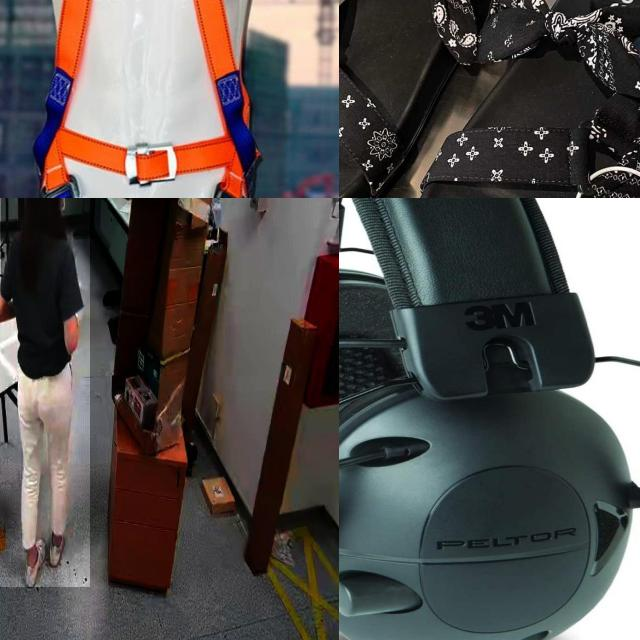Ear-protection: (339, 380, 640, 640), (339, 262, 413, 504)
Harness: (31, 0, 263, 198)
Sandals: (339, 0, 640, 198)
person: (0, 198, 90, 587)
shoes: (20, 538, 46, 591), (45, 523, 67, 573)
